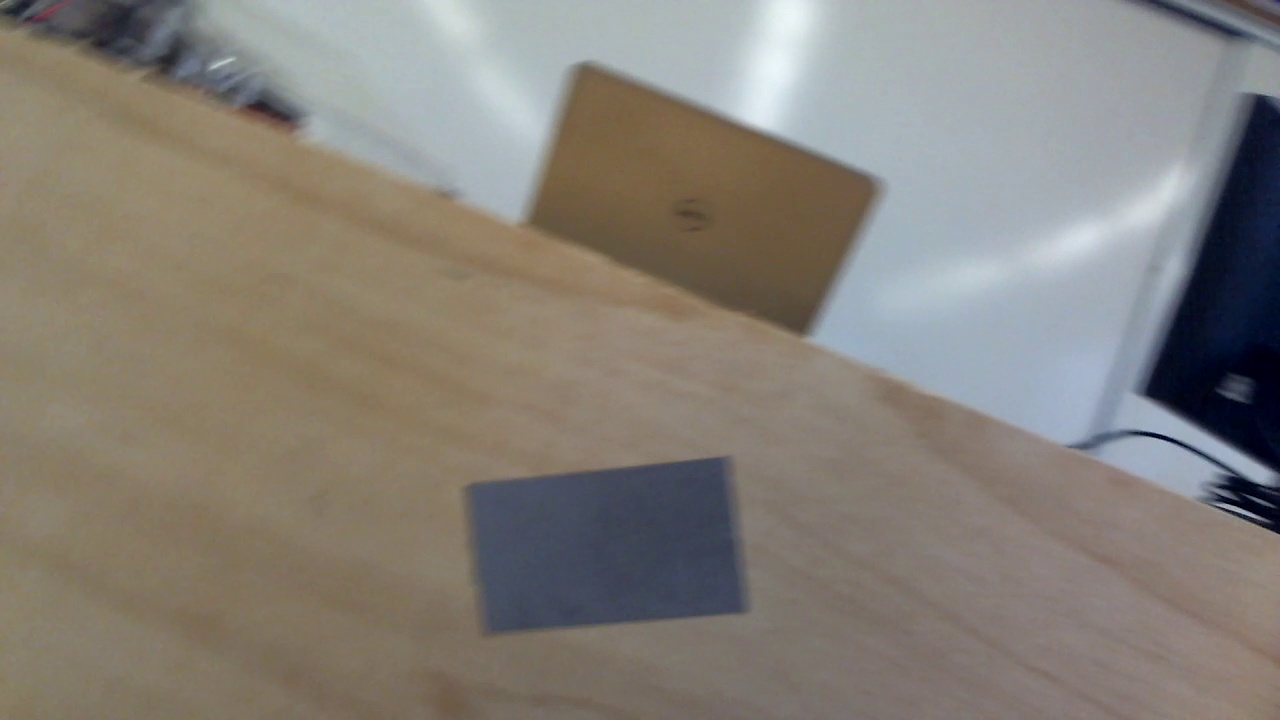Tape: (463, 455, 750, 636)
